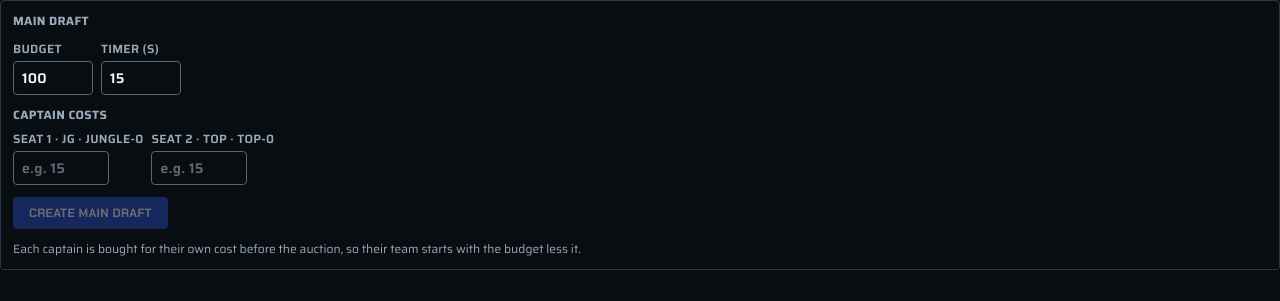
Scenario: DraftCreator › copies the first captain's cost to everyone
Type "15" into the number field named "Cost for jungle-0" at [61, 168], box [13,151,109,185]
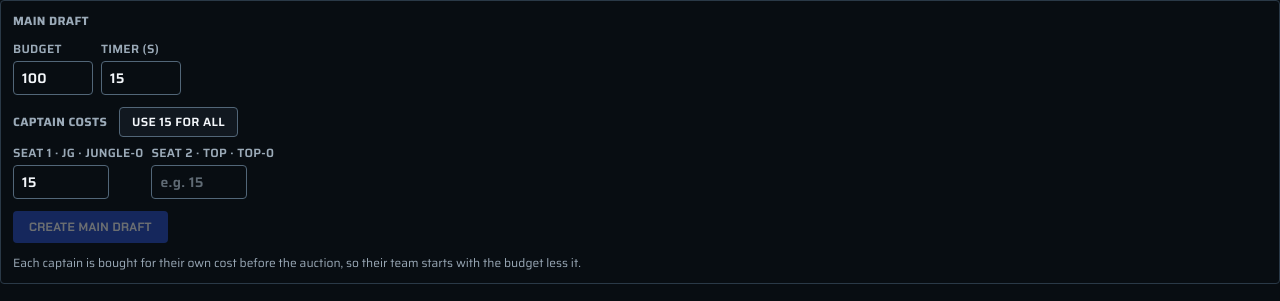
Click the button "Use 15 for all" at [179, 122], box [119,107,238,137]
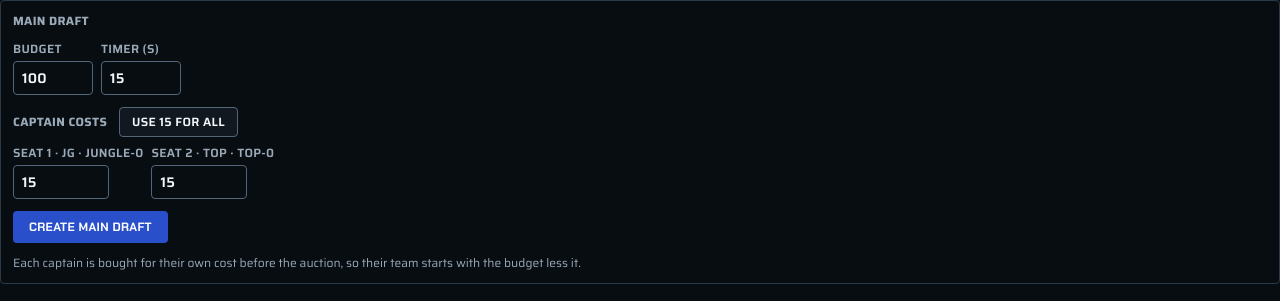
Check: the number field named "Cost for top-0" holds "15", box [152,165,248,199]
Check: the button "Create main draft" is enabled, box [13,211,168,243]
